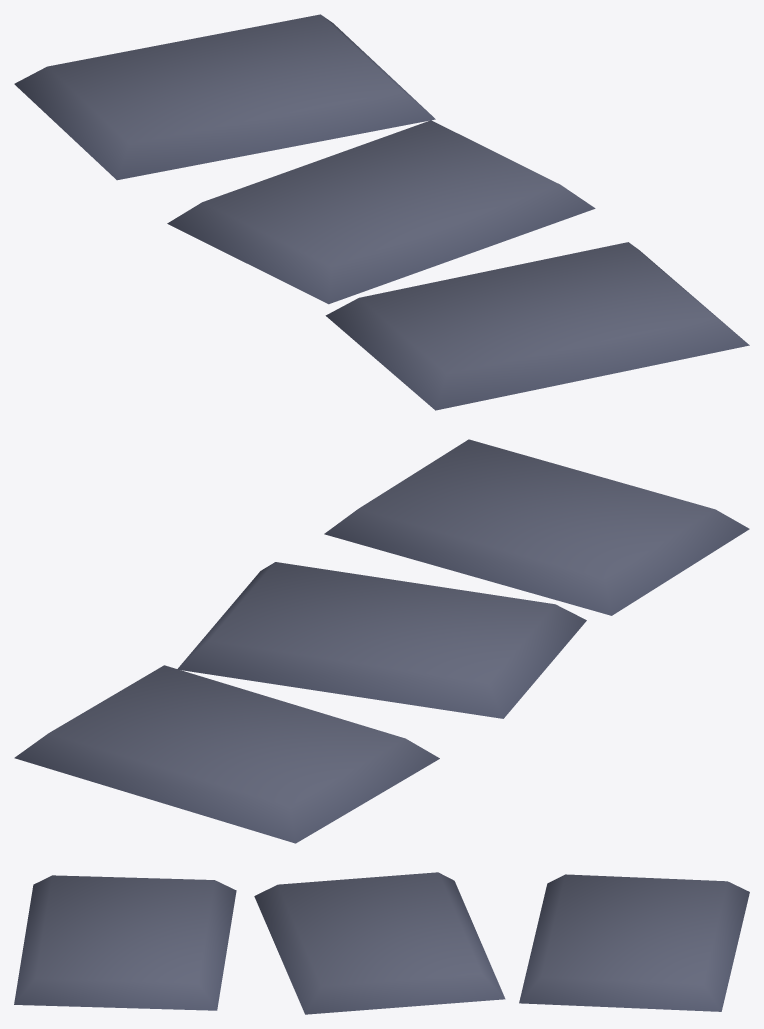
The model's file is path-stones-messy.glb.
3 renders of one model, top to bottom at view 1: azimuth 30°, elevation 25°; view 2: azimuth 150°, elevation 25°; view 3: azimuth 270°, elevation 25°, orthographic. The views are drawn at different scales.
Parts seen in each view (by area): view 1: path-stones-messy; view 2: path-stones-messy; view 3: path-stones-messy.
Part boxes in pixels (x1,y1,x2,y2): path-stones-messy: (14, 14, 749, 410); path-stones-messy: (14, 439, 749, 843); path-stones-messy: (14, 872, 749, 1014).
Size of the model in its own units: 0.1556 by 0.01 by 0.3614.
